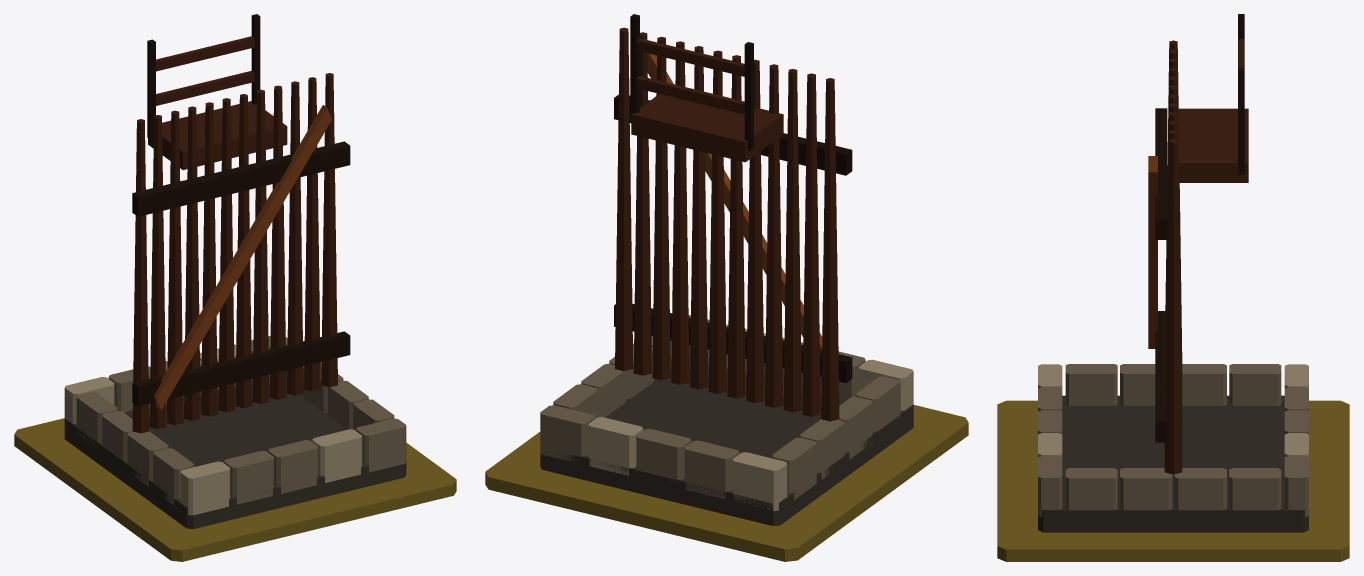
File: wall_t6.glb
3 renders of one model, left to right at view 1: azimuth 30°, elevation 25°; view 2: azimuth 150°, elevation 25°; view 3: azimuth 270°, elevation 25°, orthographic. The views are drawn at different scales.
Visible parts, largest first — view 1: MMR | wall | T06 Architecture.001, MMR | wall | Tier 06 Ground.001; view 2: MMR | wall | T06 Architecture.001, MMR | wall | Tier 06 Ground.001; view 3: MMR | wall | T06 Architecture.001, MMR | wall | Tier 06 Ground.001.
Boxes of the visible parts, left/top/right/bottom form: MMR | wall | T06 Architecture.001: left=64, top=14, right=406, bottom=529; MMR | wall | Tier 06 Ground.001: left=14, top=418, right=456, bottom=561; MMR | wall | T06 Architecture.001: left=540, top=14, right=913, bottom=525; MMR | wall | Tier 06 Ground.001: left=485, top=405, right=968, bottom=561; MMR | wall | T06 Architecture.001: left=1038, top=14, right=1308, bottom=532; MMR | wall | Tier 06 Ground.001: left=997, top=400, right=1349, bottom=561.
Bounding box in the file's own units: 1.3 × 1.81 × 1.3.
1 material, 1 textured.
